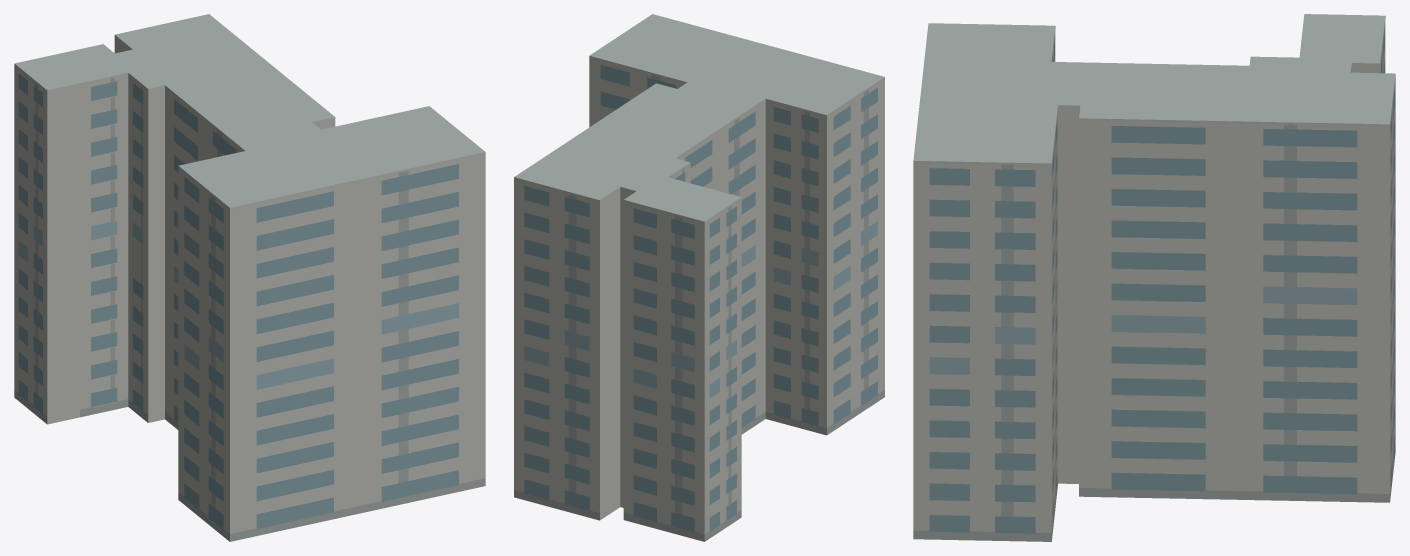
The model's file is residential-ca5796a4-666d-4754-8615-63a79d8496da.glb.
3 renders of one model, left to right at view 1: azimuth 30°, elevation 25°; view 2: azimuth 150°, elevation 25°; view 3: azimuth 270°, elevation 25°, orthographic. The views are drawn at different scales.
Visible parts, largest first — view 1: residential-ca5796a4-666d-4754-8615-63a79d8496da.tmp; view 2: residential-ca5796a4-666d-4754-8615-63a79d8496da.tmp; view 3: residential-ca5796a4-666d-4754-8615-63a79d8496da.tmp.
Boxes of the visible parts, x1,y1,x2,y2 form: residential-ca5796a4-666d-4754-8615-63a79d8496da.tmp: (14,14,485,541); residential-ca5796a4-666d-4754-8615-63a79d8496da.tmp: (514,14,884,541); residential-ca5796a4-666d-4754-8615-63a79d8496da.tmp: (913,14,1395,541).
Size of the model in its own units: 33.06 by 39 by 45.05.
